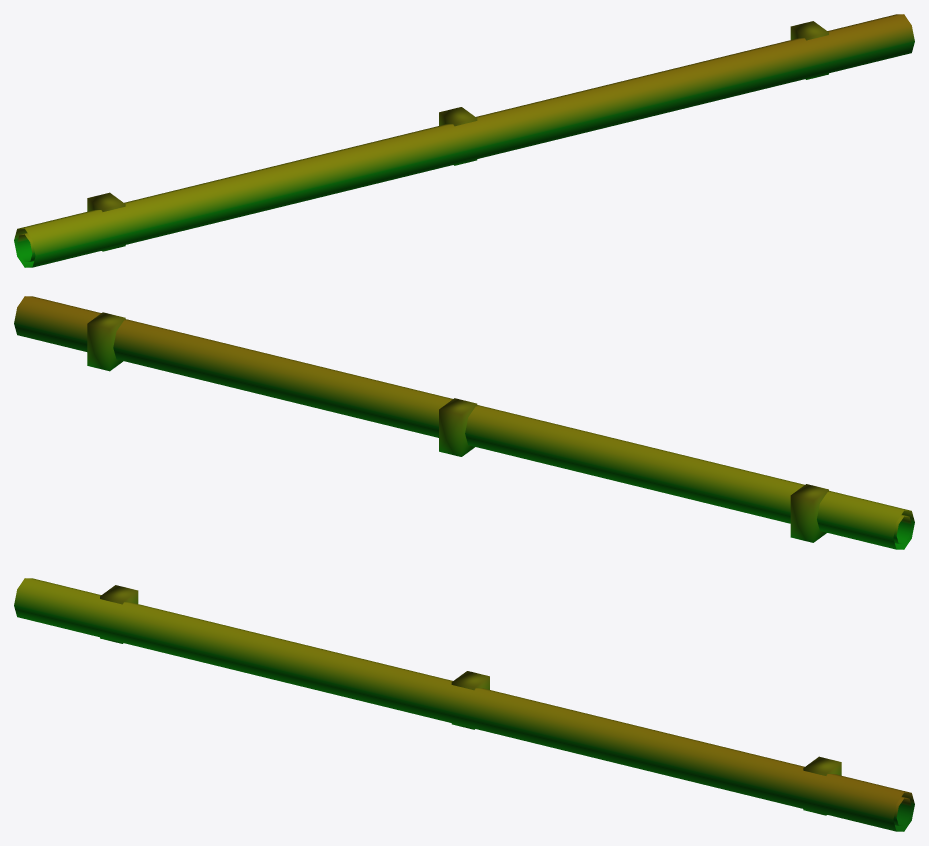
Rendered from conduit_run.glb.
3 renders of one model, top to bottom at view 1: azimuth 30°, elevation 25°; view 2: azimuth 150°, elevation 25°; view 3: azimuth 330°, elevation 25°, orthographic.
Parts seen in each view (by area): view 1: conduit_run; view 2: conduit_run; view 3: conduit_run.
Part boxes in pixels (x1,y1,x2,y2): conduit_run: [14, 14, 914, 267]; conduit_run: [14, 296, 914, 549]; conduit_run: [14, 578, 914, 831].
Size of what is drawn, in the model's own units: 4 by 0.1831 by 0.1965.
